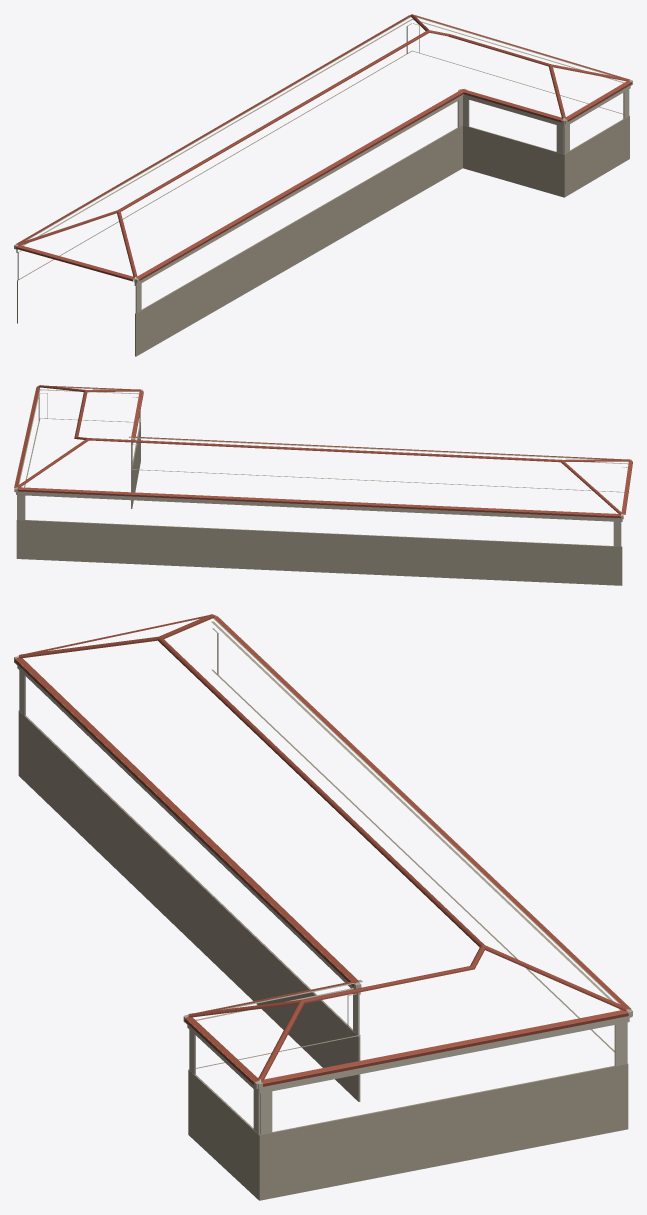
3 renders of one model, top to bottom at view 1: azimuth 30°, elevation 25°; view 2: azimuth 150°, elevation 25°; view 3: azimuth 270°, elevation 25°, orthographic. The views are drawn at different scales.
Parts seen in each view (by area): view 1: detail; view 2: detail; view 3: detail.
Part boxes in pixels (box(x1,y1,x2,y2)): detail: box(14, 14, 632, 356); detail: box(14, 385, 632, 585); detail: box(14, 614, 632, 1200).
Bounding box in the file's own units: 53.32 × 8.54 × 29.71.
